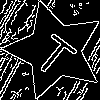T: (30, 26, 84, 80)
